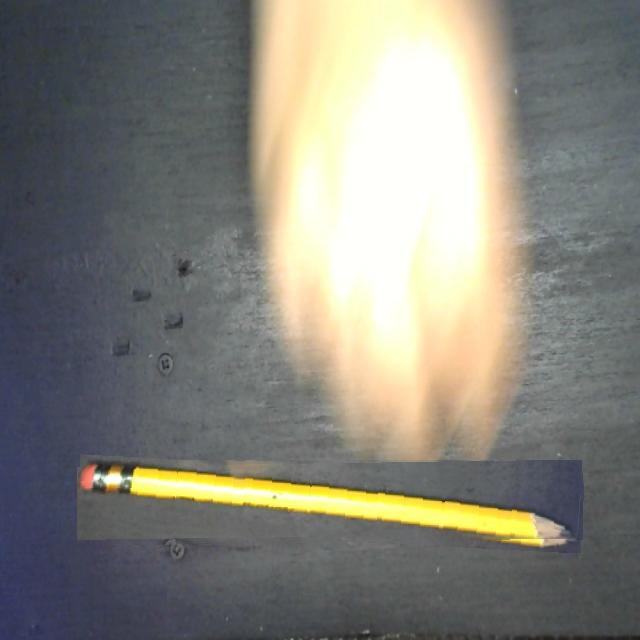biodegradable: (77, 461, 584, 546)
